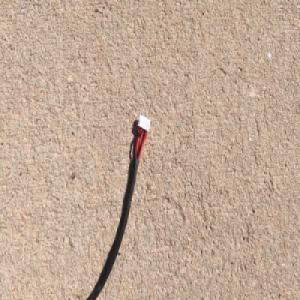Wire: (70, 107, 152, 300)
